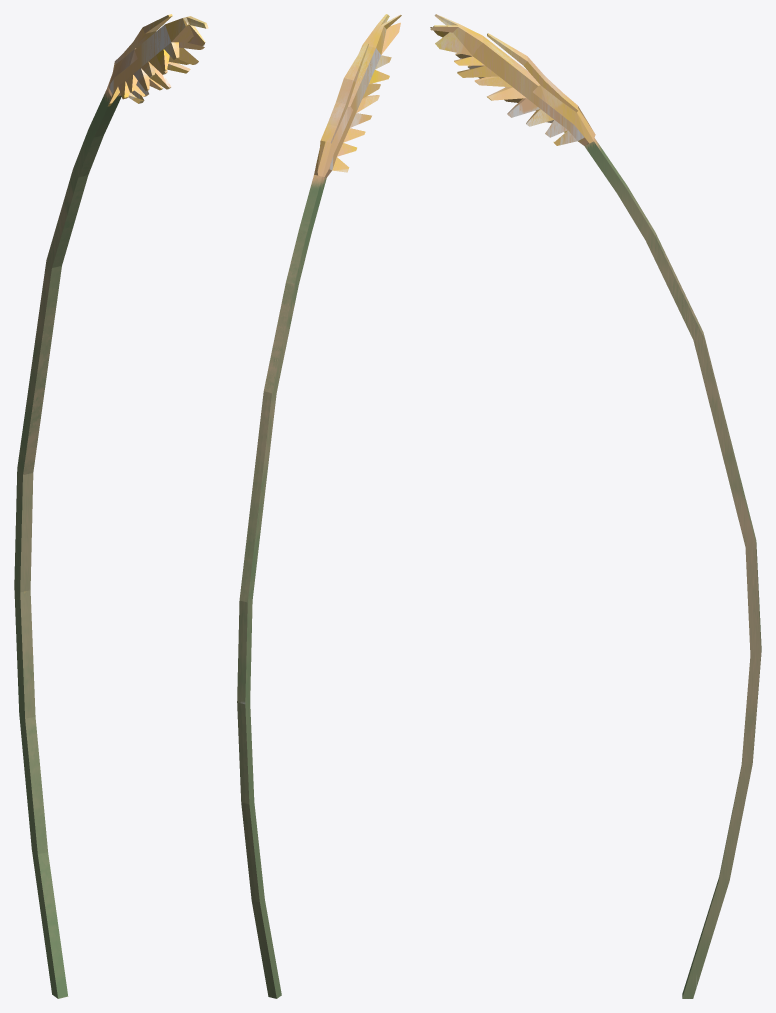
File: pasto  .fbx
3 renders of one model, left to right at view 1: azimuth 30°, elevation 25°; view 2: azimuth 150°, elevation 25°; view 3: azimuth 270°, elevation 25°, orthographic. The views are drawn at different scales.
Visible parts, largest first — view 1: pasto_pintar; view 2: pasto_pintar; view 3: pasto_pintar.
Part boxes in pixels (x1,y1,x2,y2): pasto_pintar: (14,14,208,998); pasto_pintar: (237,14,401,998); pasto_pintar: (430,14,761,998).
Bounding box in the file's own units: 21.17 × 544 × 167.
Materials: 1 (1 with a texture image).
